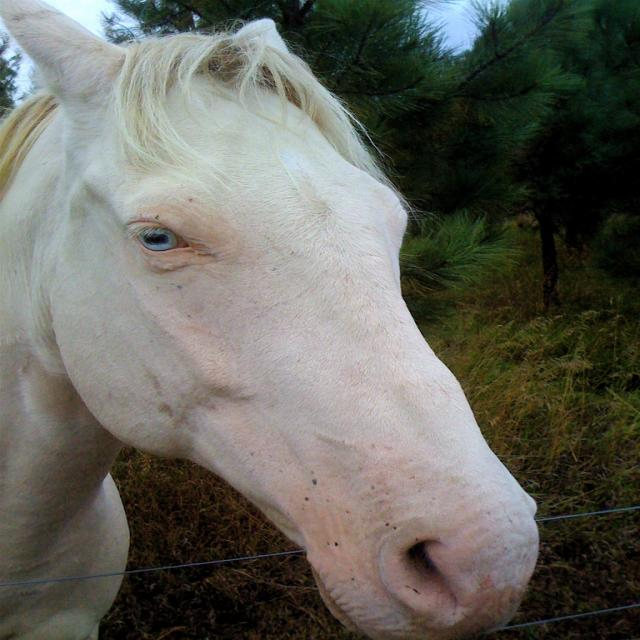Horse: (0, 2, 541, 640)
